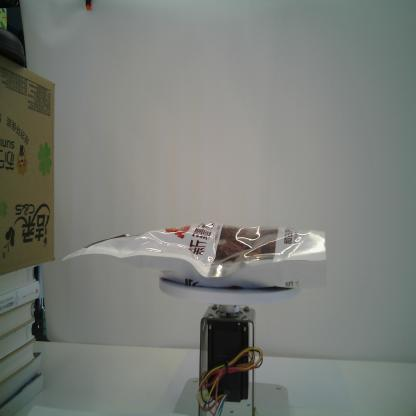Dried Food: (57, 219, 327, 292)
